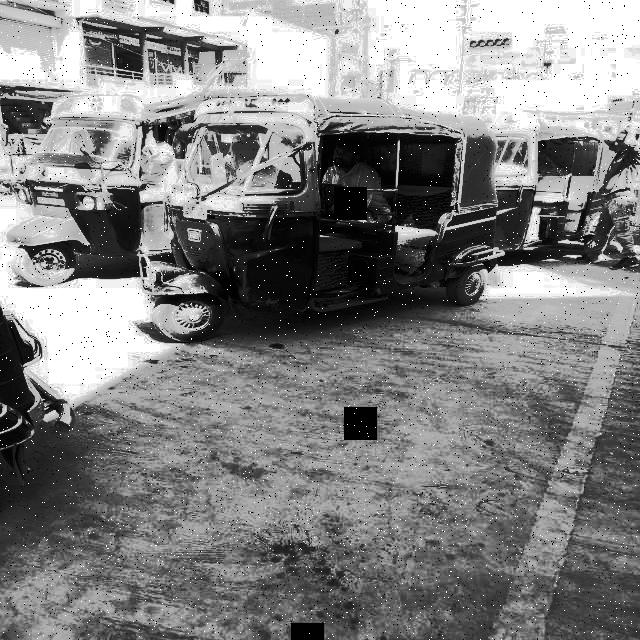Auto-Rickshaw: (134, 86, 520, 353), (6, 80, 224, 286), (484, 119, 610, 272)
